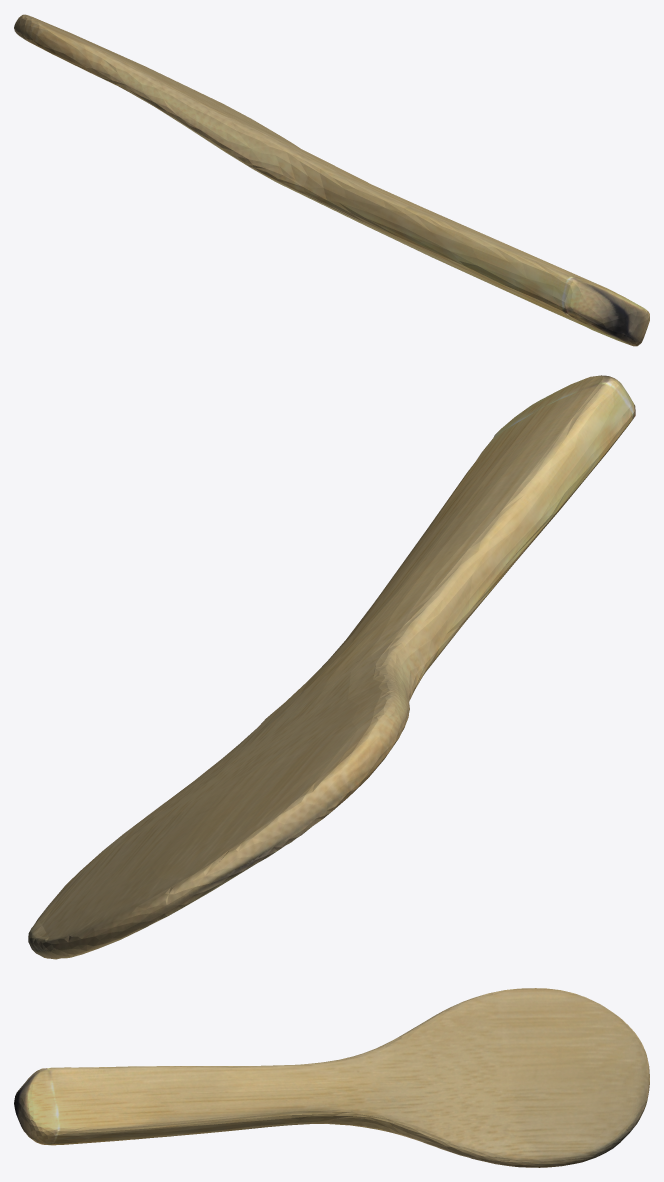
Rendered from export-middle.obj.
3 renders of one model, top to bottom at view 1: azimuth 30°, elevation 25°; view 2: azimuth 150°, elevation 25°; view 3: azimuth 270°, elevation 25°, orthographic. The views are drawn at different scales.
Size of the model in its own units: 65.69 by 39.24 by 203.
1 material, 1 textured.
